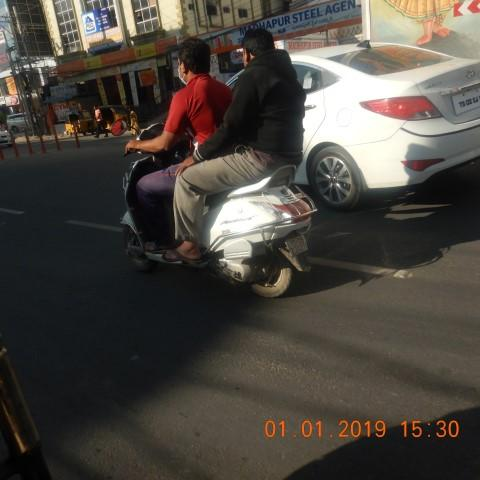without_helmet: (121, 29, 315, 298)
